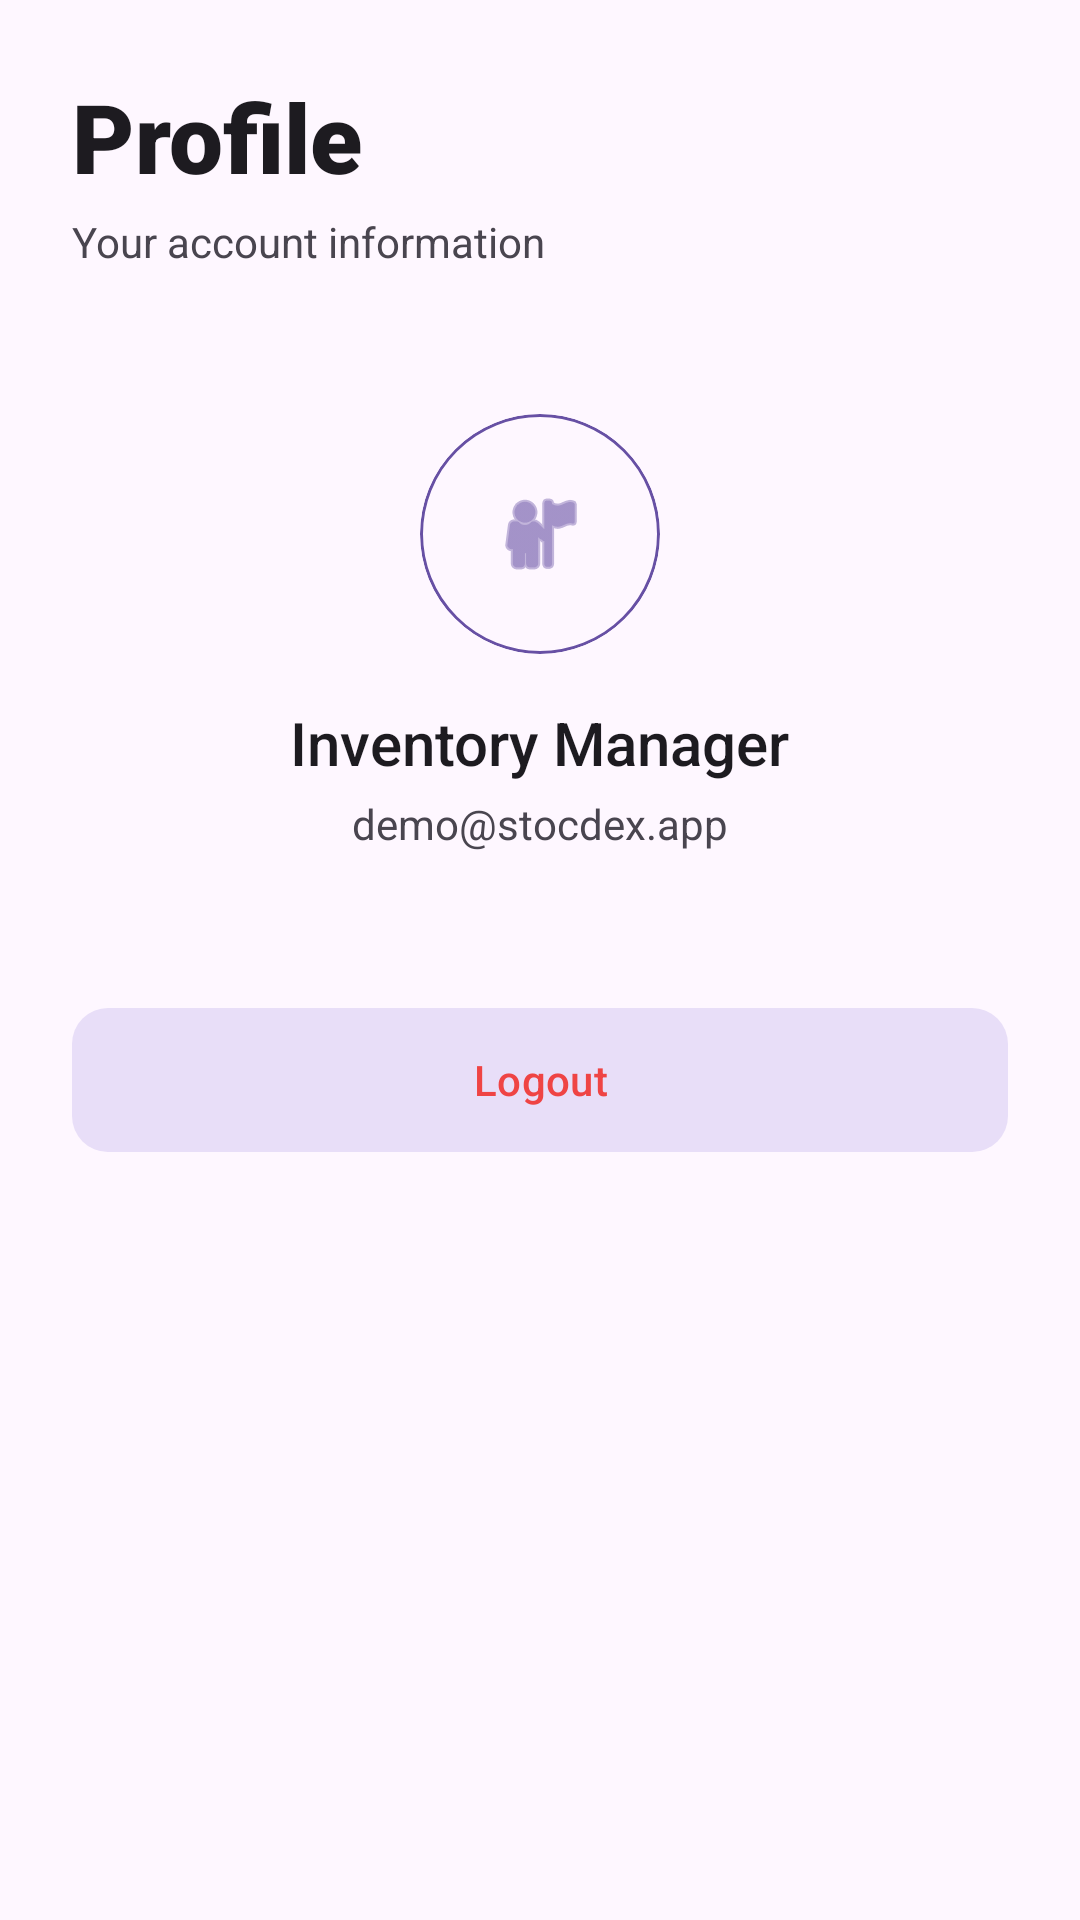

Icon bounding boxes for this 1080px×1920px phone screenshot, format (x1, y1, x2, y2):
myplaces: (420, 414, 660, 654)
